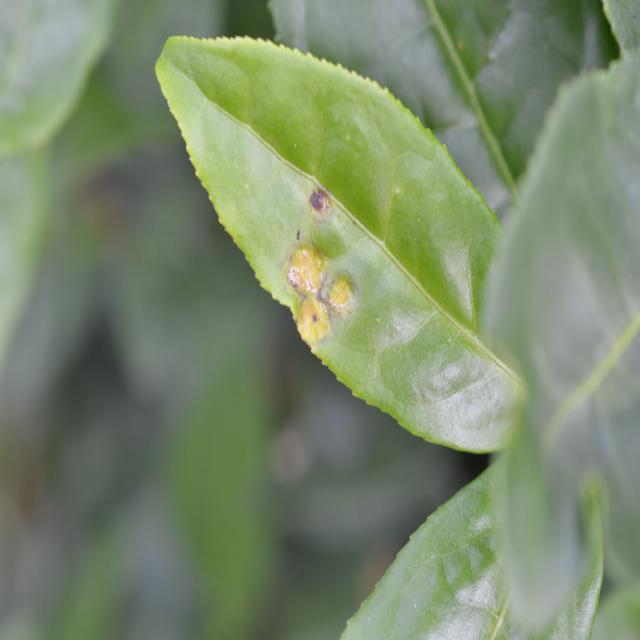Tea cake: (284, 241, 357, 335), (310, 187, 340, 223)
